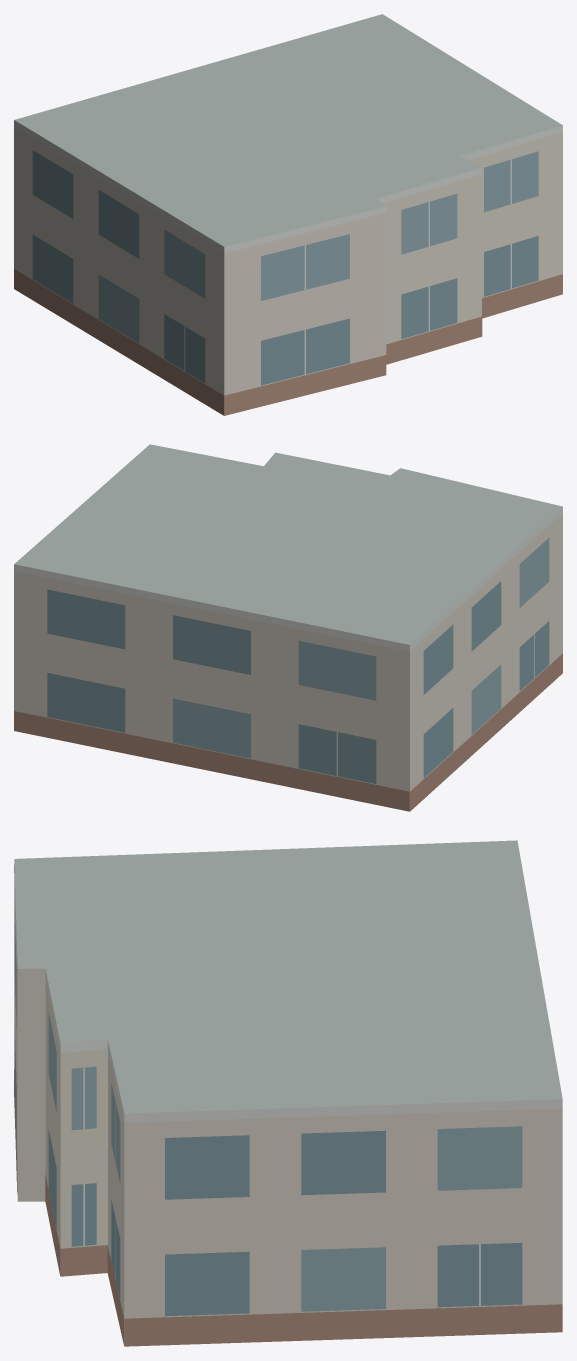
File: survey-upis-32816806.glb
3 views of the same model, one above another, from view 1: azimuth 30°, elevation 25°; view 2: azimuth 150°, elevation 25°; view 3: azimuth 270°, elevation 25° (orthographic). The views are drawn at different scales.
Visible parts, largest first — view 1: survey-upis-32816806.tmp; view 2: survey-upis-32816806.tmp; view 3: survey-upis-32816806.tmp.
Boxes of the visible parts, x1,y1,x2,y2 form: survey-upis-32816806.tmp: (14,14,562,415); survey-upis-32816806.tmp: (14,444,562,811); survey-upis-32816806.tmp: (14,840,562,1346).
Size of the model in its own units: 15.35 by 6.1 by 13.03.
